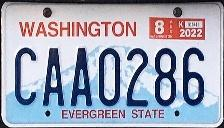0: (97, 46, 123, 107)
2: (125, 46, 151, 106)
6: (181, 46, 209, 107)
8: (153, 46, 178, 108)
A: (69, 46, 95, 107), (41, 47, 65, 107)
C: (14, 45, 39, 107)
